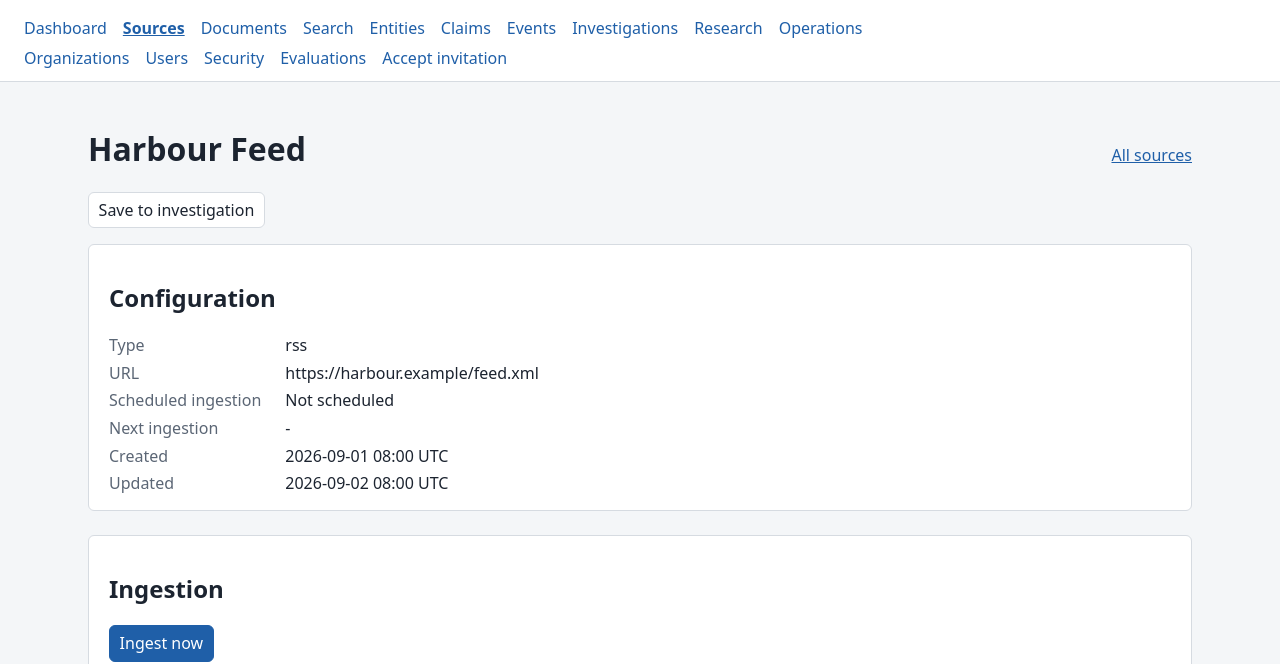
Test case: source operations › shows a refused run
Click the button "Ingest now". click: click(161, 643)
box: [109, 625, 214, 662]
(page scrolled)
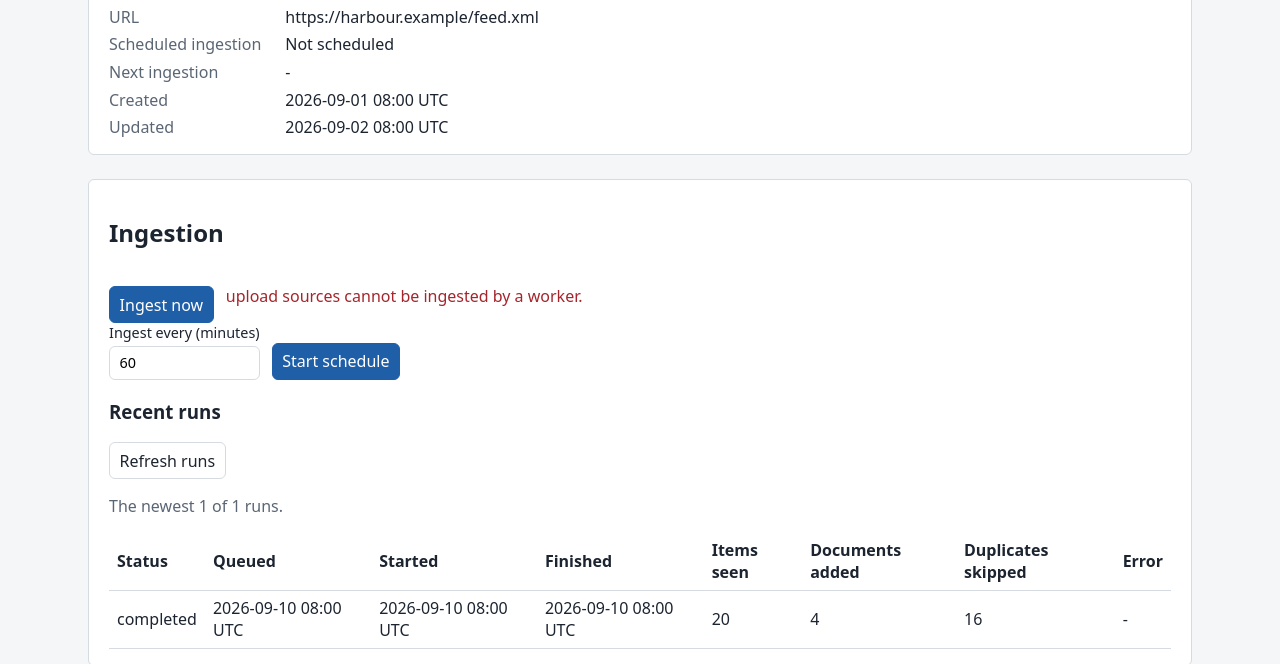
Expected: the button "Ingest now" is enabled, [109, 286, 214, 323]
Expected: the message reads "upload sources cannot be ingested by a worker.", [226, 285, 582, 307]
